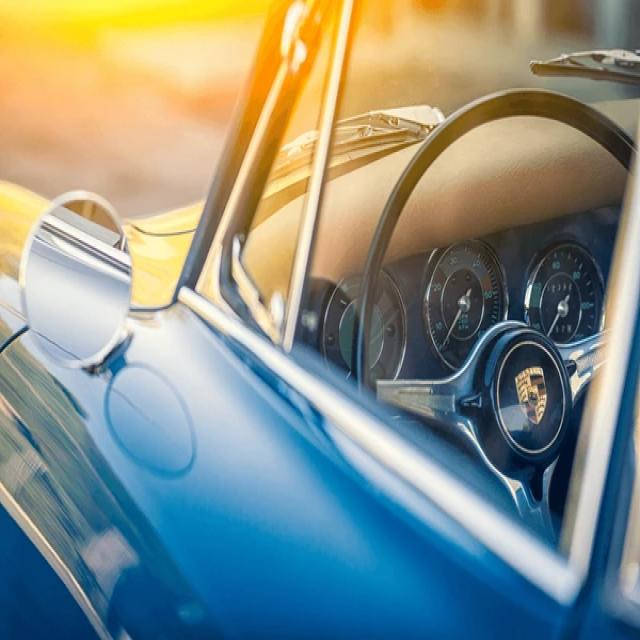porsche: (515, 363, 551, 431)
